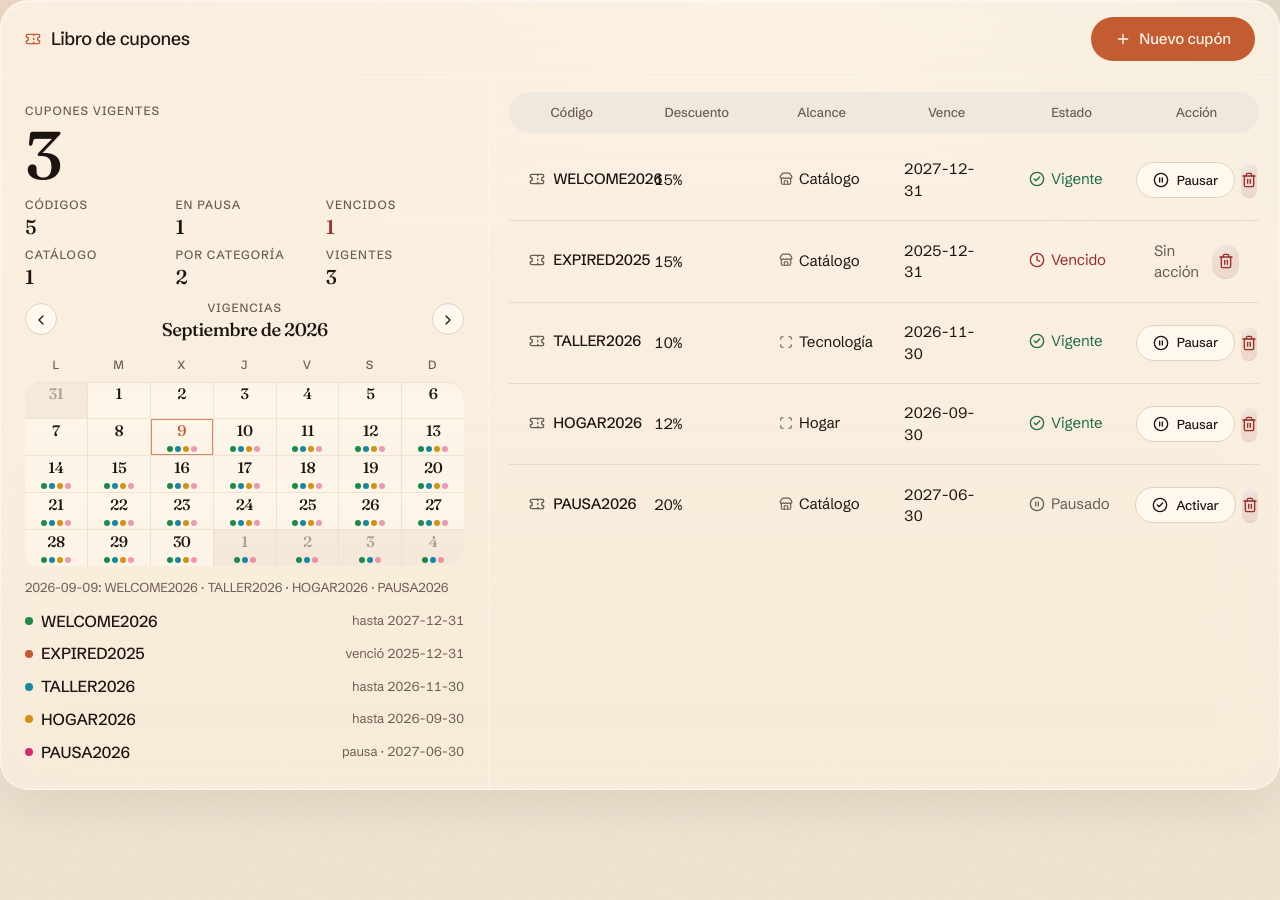
Test: CouponDesk › pauses a live coupon without removing it from the book
Check: the 1st text "Vigente" is shown, box [1029,168,1102,190]
Click the 1st button "Pausar" at (1186, 180), box [1136,162,1235,198]
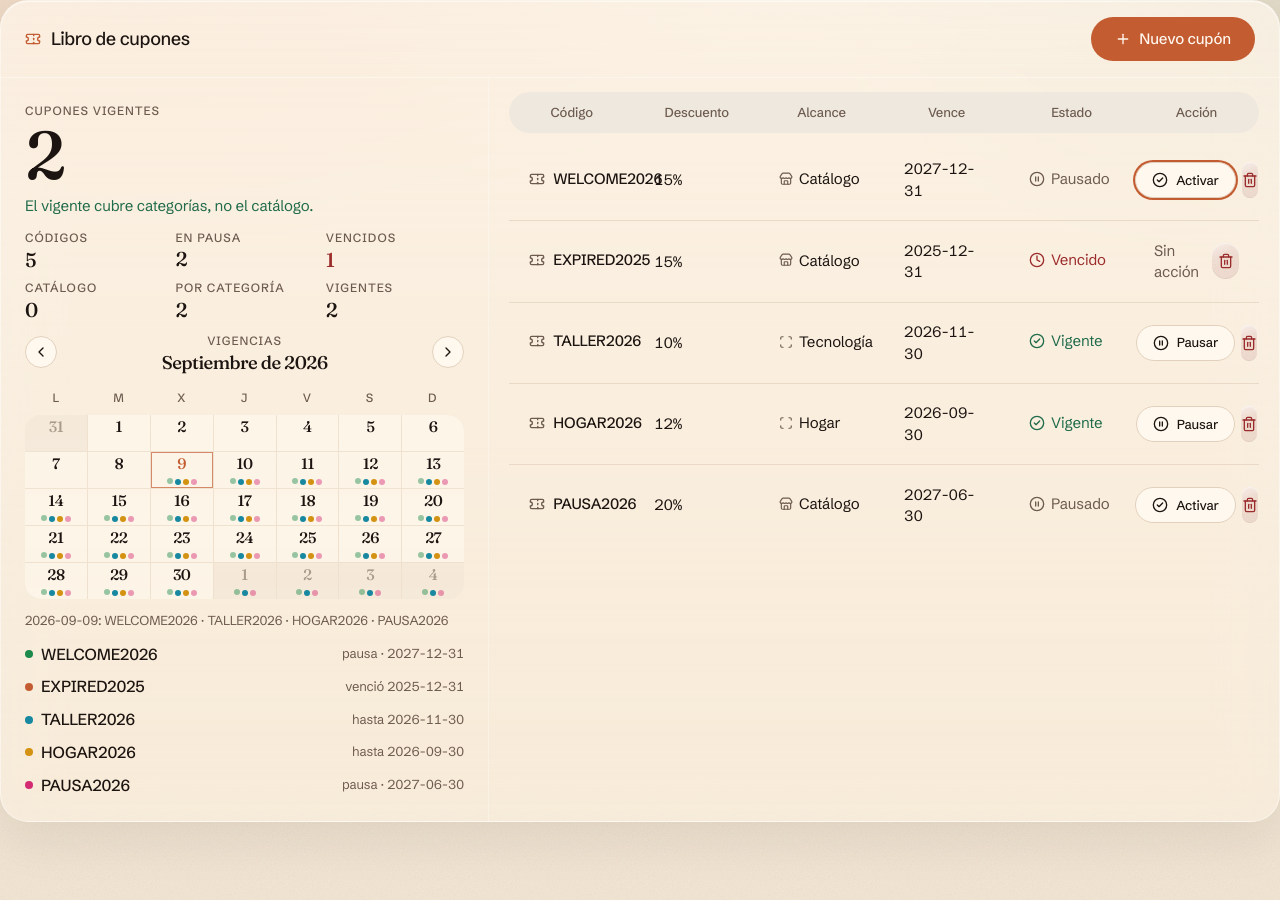
Check: the 1st text "Pausado" is shown, box [1029,168,1110,190]
Check: the 1st button "Activar" is shown, box [1135,162,1236,198]
